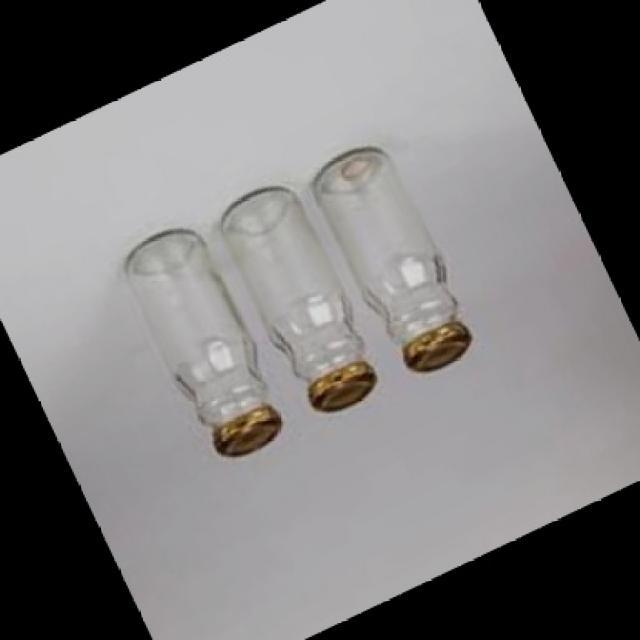Glass: (311, 145, 475, 373), (124, 228, 284, 458), (222, 185, 381, 414)
